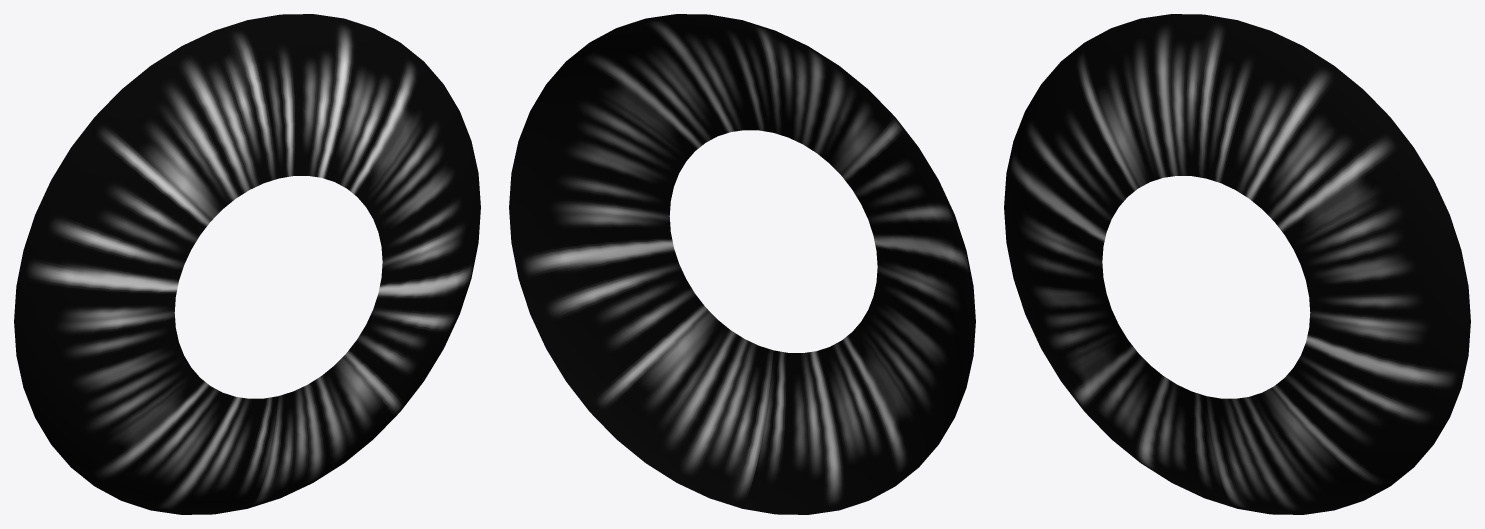
File: disc06.DAE
3 views of the same model, side by side, from view 1: azimuth 30°, elevation 25°; view 2: azimuth 150°, elevation 25°; view 3: azimuth 330°, elevation 25° (orthographic).
Visible parts, largest first — view 1: obj1; view 2: obj1; view 3: obj1.
Boxes of the visible parts, bbox=[...] form: obj1: bbox=[14, 14, 480, 514]; obj1: bbox=[509, 14, 975, 514]; obj1: bbox=[1004, 14, 1470, 514].
Size of the model in its own units: 18.36 by 18.36 by 2.12.
